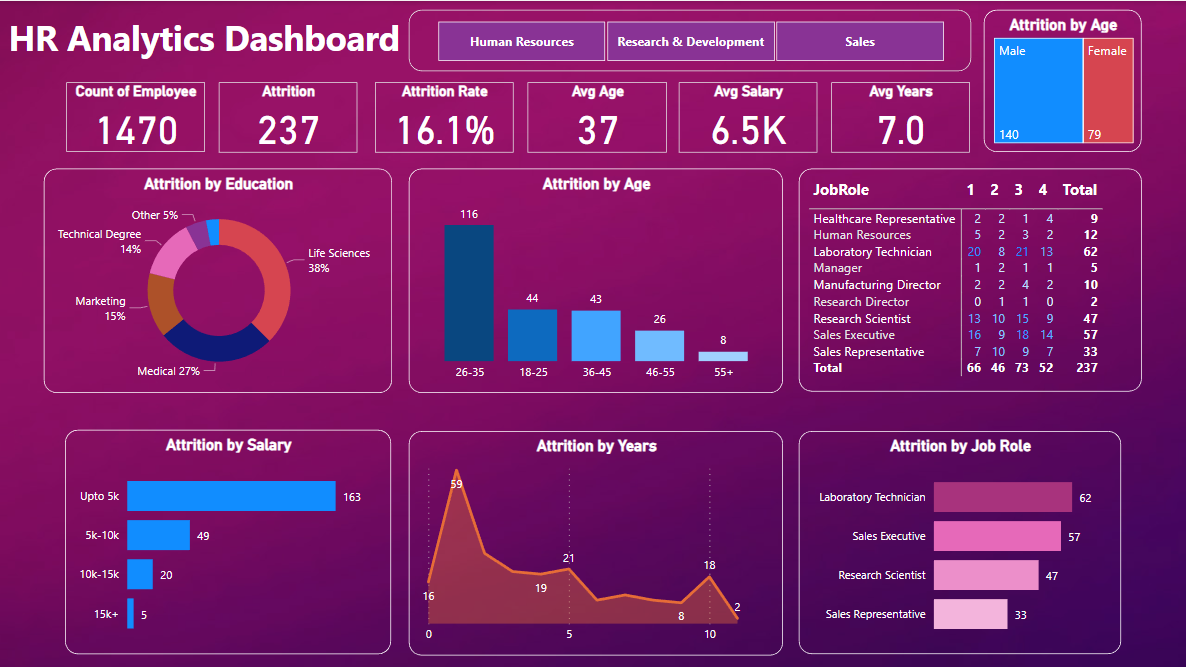

This screenshot's page, from the dashboard's own definition file:
{"tool":"powerbi","page":{"name":"Page 1","canvas":[1280,720],"ordinal":0},"visuals":[{"type":"card","title":"Count of Employee","fields":{"Values":["CountNonNull(HR_Analytics.EmpID)"]},"box":[70.9,87.6,149.4,75.4],"z":0},{"type":"card","title":"Attrition","fields":{"Values":["Sum(HR_Analytics.AttritionCount)"]},"box":[235.5,87.1,149.3,76.1],"z":1000},{"type":"card","title":"Attrition Rate","fields":{"Values":["HR_Analytics.AttritionRate"]},"box":[404.6,87.1,149.3,76.1],"z":2000},{"type":"card","title":"Avg Age","fields":{"Values":["Avg(HR_Analytics.Age)"]},"box":[569.4,87.1,150.7,76.1],"z":3000},{"type":"card","title":"Avg Salary","fields":{"Values":["Avg(HR_Analytics.MonthlyIncome)"]},"box":[732.8,87.1,149.3,76.1],"z":4000},{"type":"card","title":"Avg Years","fields":{"Values":["Avg(HR_Analytics.YearsAtCompany)"]},"box":[897.7,87.1,149.3,76.1],"z":5000},{"type":"donutChart","title":"Attrition by Education","fields":{"Category":["HR_Analytics.EducationField"],"Y":["Sum(HR_Analytics.AttritionCount)"]},"box":[46.8,181.4,376.1,242.3],"z":6000},{"type":"clusteredColumnChart","title":"Attrition by Age","fields":{"Category":["HR_Analytics.AgeGroup"],"Y":["Sum(HR_Analytics.AttritionCount)"]},"box":[441.2,181.4,404.3,242.3],"z":7000},{"type":"pivotTable","fields":{"Rows":["HR_Analytics.JobRole"],"Columns":["HR_Analytics.JobSatisfaction"],"Values":["Sum(HR_Analytics.AttritionCount)"]},"box":[862.4,181.4,370.5,240.9],"z":8000},{"type":"barChart","title":"Attrition by Salary","fields":{"Category":["HR_Analytics.SalarySlab"],"Y":["Sum(HR_Analytics.AttritionCount)"]},"box":[70.7,463.2,352.2,242.3],"z":9000},{"type":"barChart","title":"Attrition by Job Role","fields":{"Category":["HR_Analytics.JobRole"],"Y":["Sum(HR_Analytics.AttritionCount)"]},"box":[862.4,464.6,348,240.9],"z":10000},{"type":"areaChart","title":"Attrition by Years","fields":{"Category":["HR_Analytics.YearsAtCompany"],"Y":["Sum(HR_Analytics.AttritionCount)"]},"box":[441.2,464.6,404.3,242.3],"z":11000},{"type":"treemap","title":"Attrition by Age","fields":{"Group":["HR_Analytics.Gender"],"Values":["Sum(HR_Analytics.AttritionCount)"]},"box":[1062.2,9.9,170.5,153.6],"z":12000},{"type":"slicer","fields":{"Values":["HR_Analytics.Department"]},"box":[440.9,9.9,607.2,66.2],"z":13000},{"type":"textbox","box":[0,9.9,440.9,66.2],"z":14000}]}

Visuals, with their boxes in screenshot pixels (x1, y1, x2, y2), scaled from the page's 1280x720 canvas onto the 1186x667 screenshot:
"Count of Employee" card: 66,81,204,151
"Attrition" card: 218,81,357,151
"Attrition Rate" card: 375,81,513,151
"Avg Age" card: 528,81,667,151
"Avg Salary" card: 679,81,817,151
"Avg Years" card: 832,81,970,151
"Attrition by Education" donutChart: 43,168,392,393
"Attrition by Age" clusteredColumnChart: 409,168,783,393
pivotTable - HR_Analytics.JobRole x HR_Analytics.JobSatisfaction: 799,168,1142,391
"Attrition by Salary" barChart: 66,429,392,654
"Attrition by Job Role" barChart: 799,430,1122,654
"Attrition by Years" areaChart: 409,430,783,655
"Attrition by Age" treemap: 984,9,1142,151
slicer - HR_Analytics.Department: 409,9,971,70
textbox: 0,9,409,70
